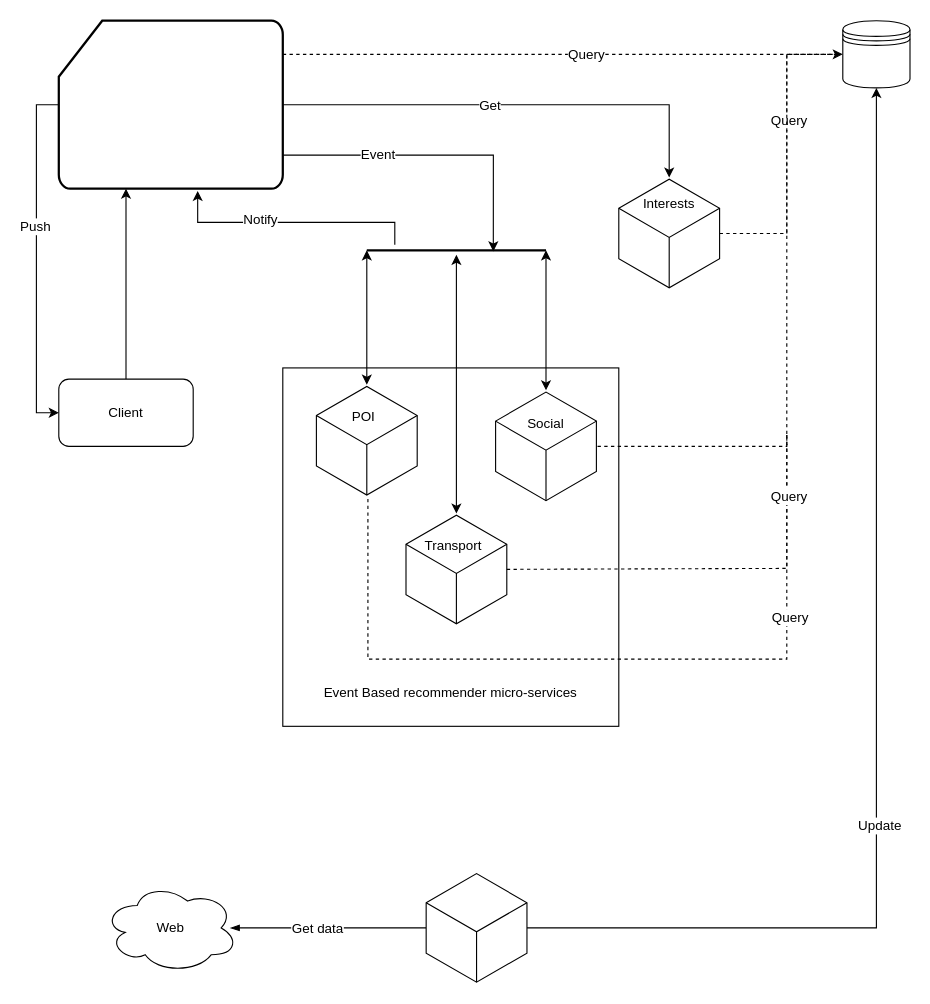
This 930x1004 diagram has some shape labels left out. Each missing label, with the centre of its shape:
"Feeder" belongs at (476,927).
"Front Controller" belongs at (170,104).
"RDF Graph" belongs at (876,54).
